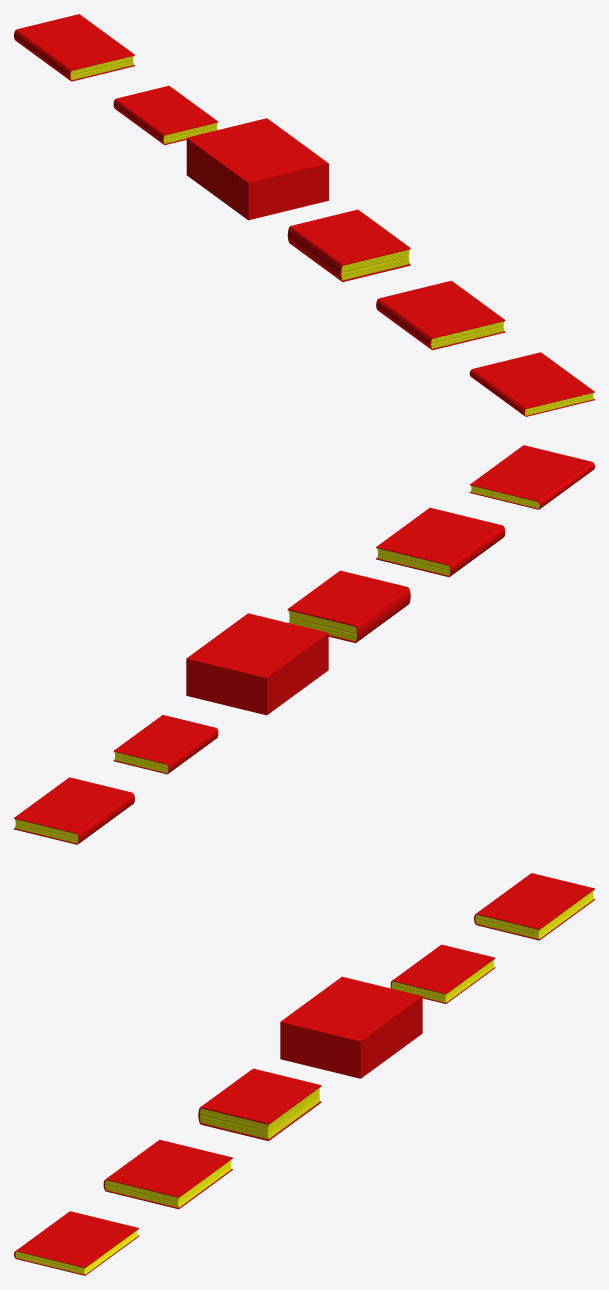
The model's file is RoboTHOR_books_grp.fbx.
3 views of the same model, one above another, from view 1: azimuth 30°, elevation 25°; view 2: azimuth 150°, elevation 25°; view 3: azimuth 330°, elevation 25° (orthographic).
Parts seen in each view (by area): view 1: robothor_book_4, robothor_book_front_2, robothor_book_front_3, robothor_book_front_1, robothor_book_front_6, robothor_book_front_5, robothor_book_3, robothor_book_2, robothor_book_6, robothor_book_1; view 2: robothor_book_4, robothor_book_front_2, robothor_book_front_3, robothor_book_front_1, robothor_book_front_6, robothor_book_front_5, robothor_book_3, robothor_book_2, robothor_book_6, robothor_book_5, robothor_book_1; view 3: robothor_book_4, robothor_book_front_2, robothor_book_front_3, robothor_book_front_1, robothor_book_front_6, robothor_book_front_5, robothor_book_3, robothor_book_2, robothor_book_6, robothor_book_1, robothor_book_5.
Boxes of the visible parts, left/top/right/bottom form: robothor_book_4: left=186, top=118, right=328, bottom=220; robothor_book_front_2: left=376, top=280, right=505, bottom=344; robothor_book_front_3: left=287, top=209, right=410, bottom=273; robothor_book_front_1: left=469, top=352, right=594, bottom=413; robothor_book_front_6: left=14, top=14, right=134, bottom=76; robothor_book_front_5: left=113, top=85, right=218, bottom=140; robothor_book_3: left=287, top=236, right=410, bottom=281; robothor_book_2: left=376, top=305, right=505, bottom=350; robothor_book_6: left=14, top=36, right=134, bottom=81; robothor_book_1: left=469, top=374, right=594, bottom=416; robothor_book_4: left=186, top=613, right=328, bottom=715; robothor_book_front_2: left=376, top=507, right=505, bottom=571; robothor_book_front_3: left=287, top=570, right=410, bottom=634; robothor_book_front_1: left=470, top=445, right=594, bottom=505; robothor_book_front_6: left=14, top=777, right=134, bottom=839; robothor_book_front_5: left=113, top=715, right=218, bottom=769; robothor_book_3: left=289, top=597, right=410, bottom=643; robothor_book_2: left=376, top=532, right=505, bottom=576; robothor_book_6: left=14, top=799, right=134, bottom=844; robothor_book_5: left=113, top=734, right=218, bottom=774; robothor_book_1: left=469, top=467, right=594, bottom=509; robothor_book_4: left=280, top=976, right=422, bottom=1078; robothor_book_front_2: left=103, top=1140, right=232, bottom=1202; robothor_book_front_3: left=198, top=1068, right=321, bottom=1131; robothor_book_front_1: left=14, top=1211, right=139, bottom=1271; robothor_book_front_6: left=474, top=873, right=594, bottom=934; robothor_book_front_5: left=390, top=944, right=495, bottom=998; robothor_book_3: left=198, top=1094, right=321, bottom=1140; robothor_book_2: left=103, top=1164, right=232, bottom=1209; robothor_book_6: left=474, top=895, right=594, bottom=940; robothor_book_1: left=14, top=1232, right=138, bottom=1275; robothor_book_5: left=390, top=963, right=495, bottom=1003.
Size of the model in its own units: 20.3 by 9 by 224.
